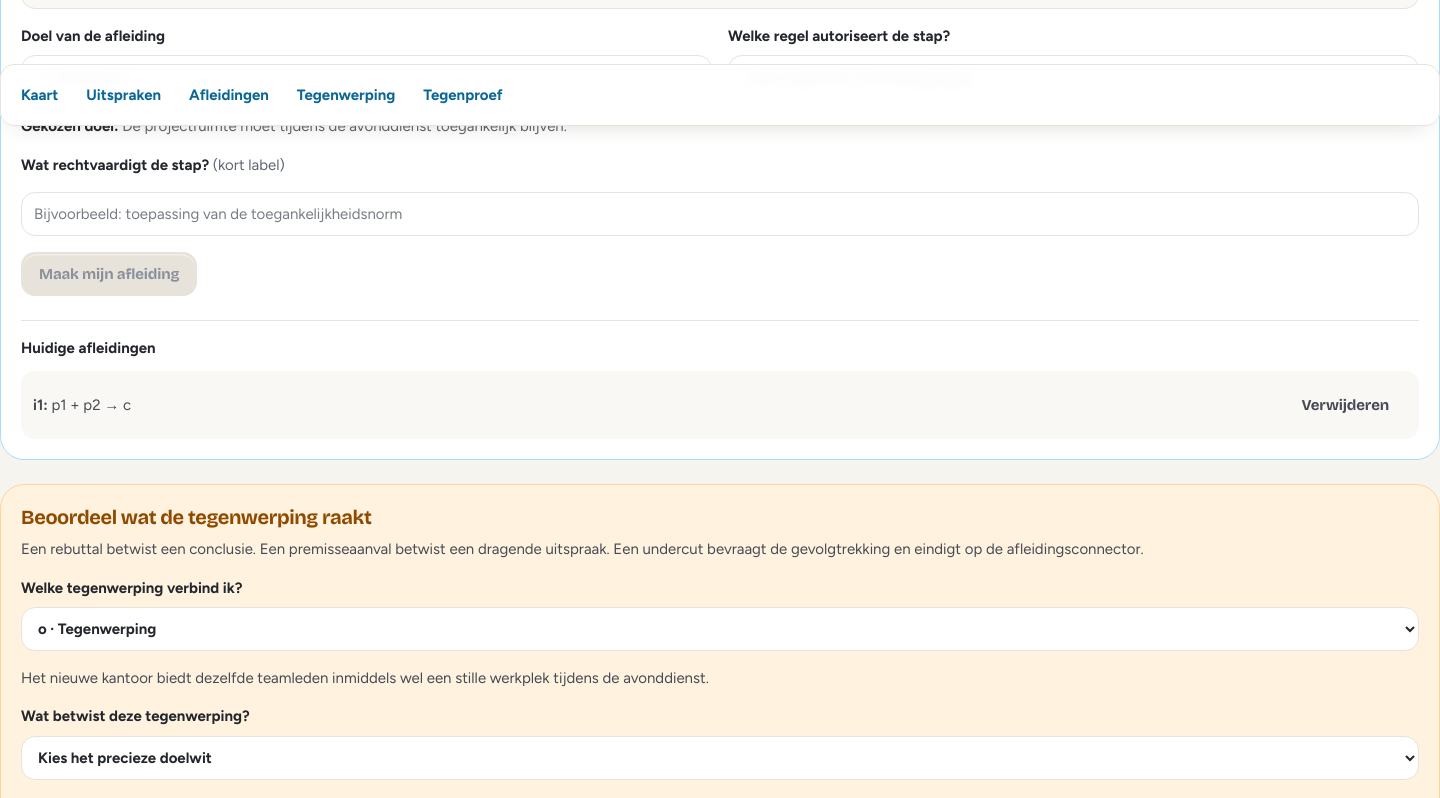
Scenario: a reachable argument-map workbench › does not treat zero existing routes as routes that disappear
(page scrolled)
What coordinates should you click on to do the following:
click the button with aria-label "Verwijder afleiding i1"
I would click on:
 (1345, 405)
Its box is [1284, 383, 1407, 427].
(page scrolled)
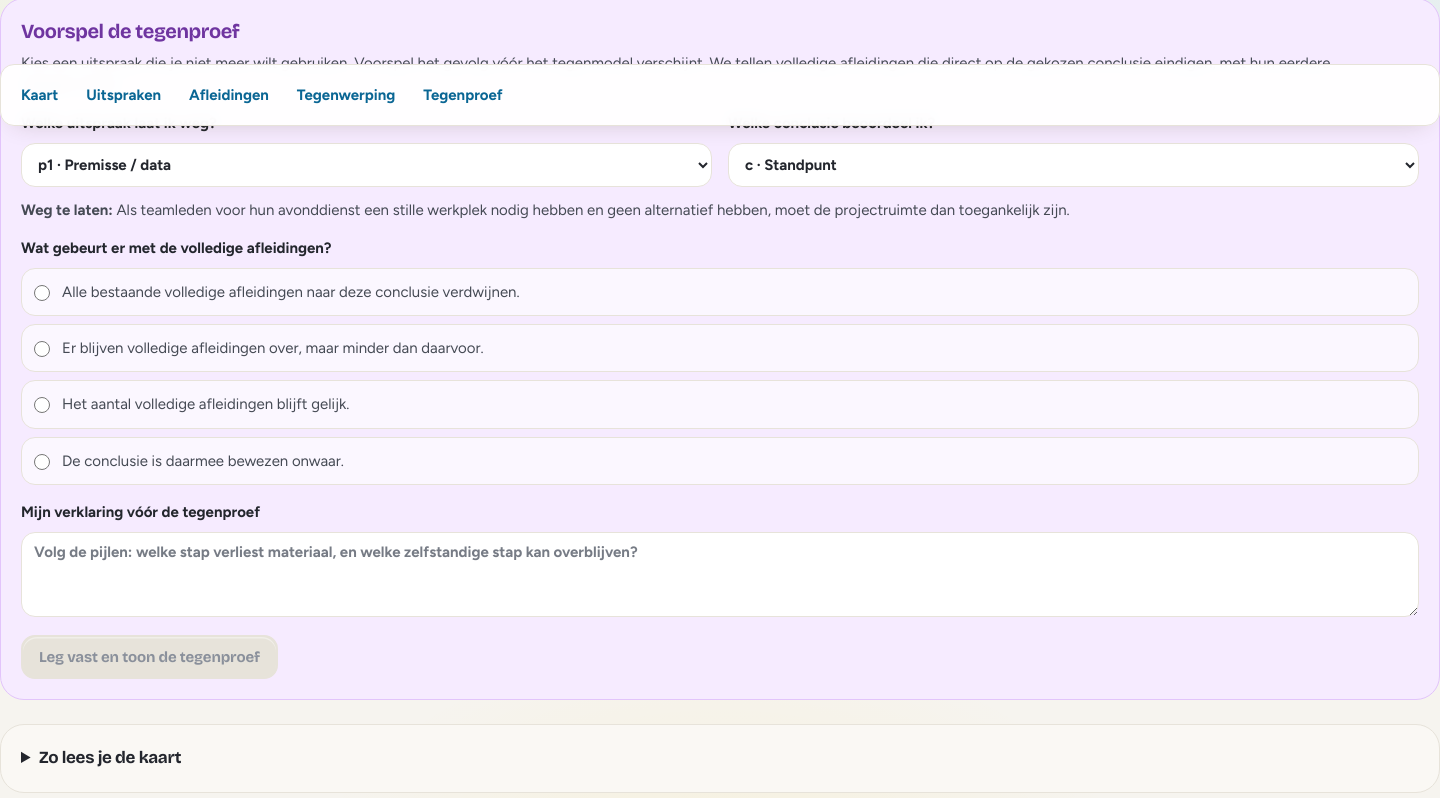
What coordinates should you click on to do the following:
click the radio button labelled "Het aantal volledige afleidingen blijft gelijk."
I would click on:
 (42, 405)
Its box is [34, 397, 50, 413].
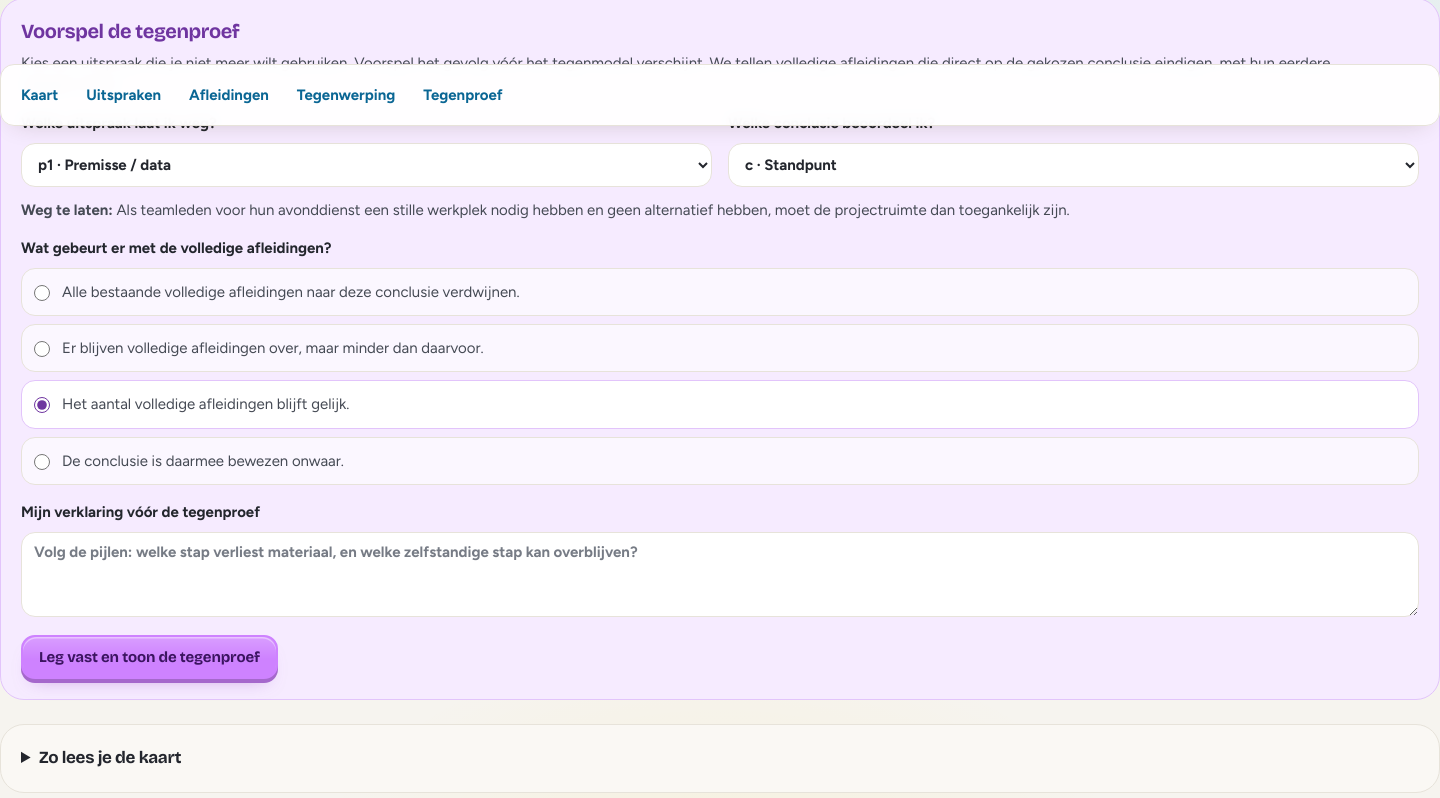
What coordinates should you click on to do the following:
click the button "Leg vast en toon de tegenproef"
I would click on:
 (149, 657)
Its box is [21, 635, 278, 679].
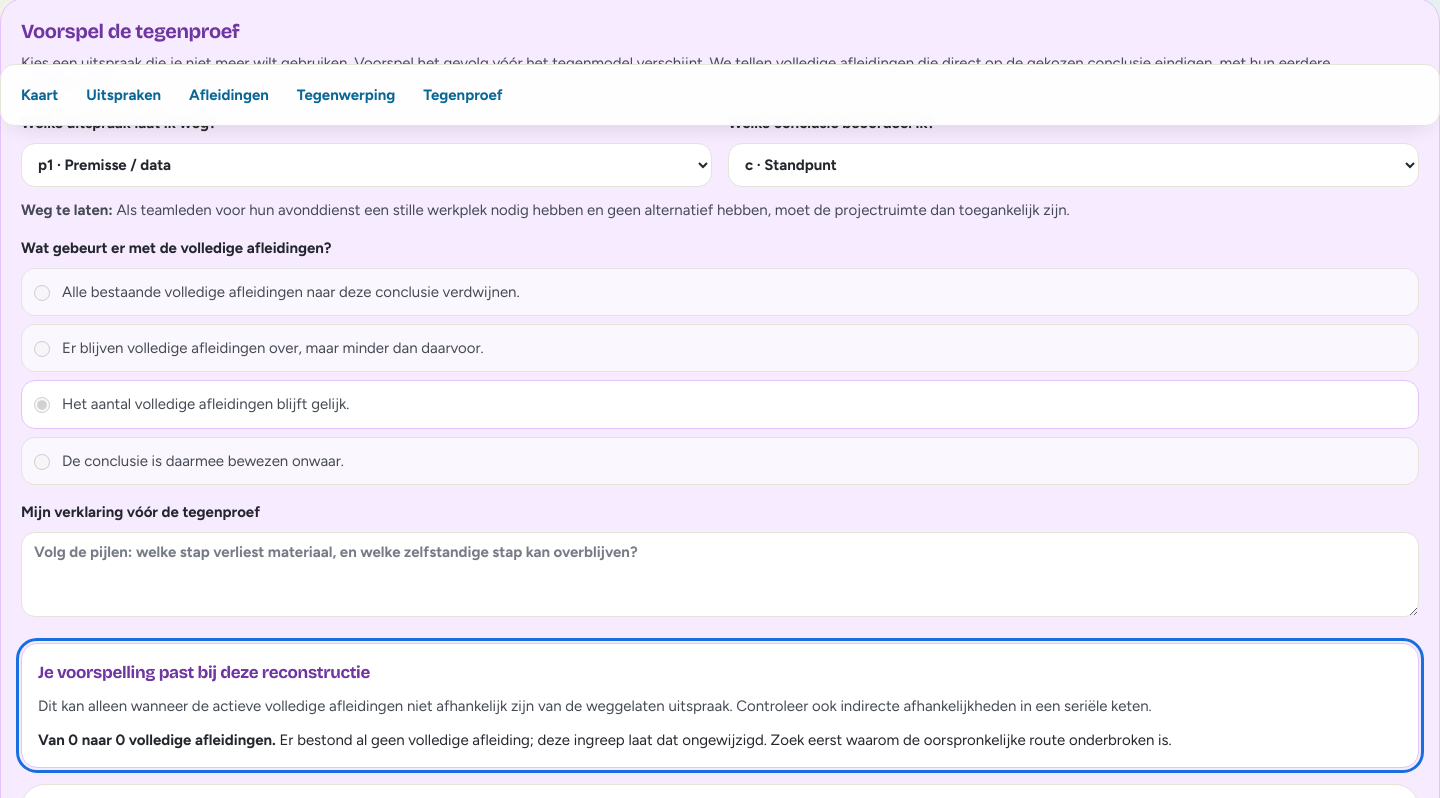
Check: the heading "Je voorspelling past bij deze reconstructie" is shown, box [38, 662, 370, 683]
Check: the text "Er bestond al geen volledige afleiding" is shown, box [280, 731, 1172, 749]
